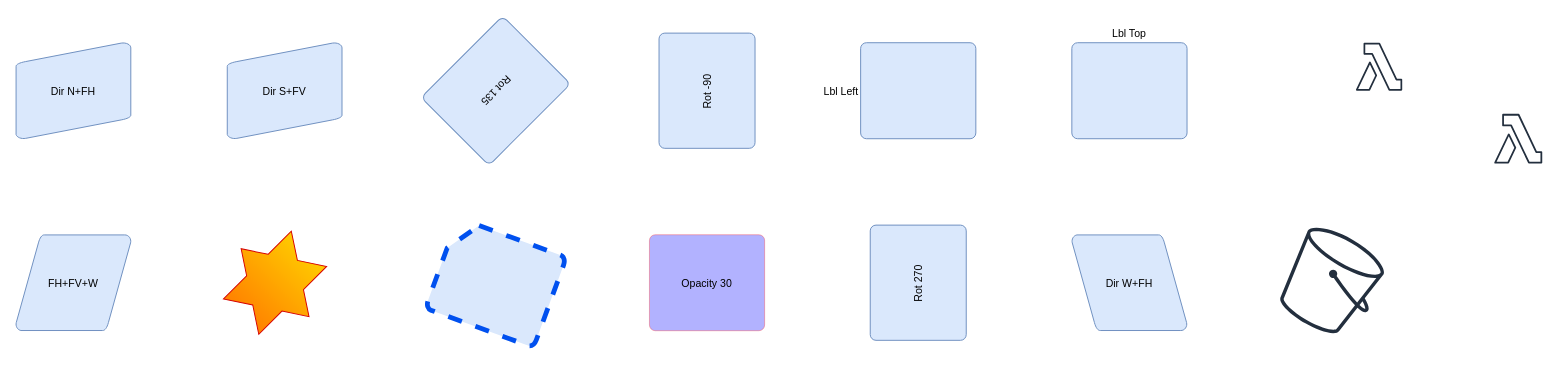
Some shapes in this 1560 by 367 pixel diagram are drawn without their labels. The centre of each missing label's shape, as x and y in pixels:
AWS S3 Rot: the point at 1330,282
Rot+Grad: the point at 274,282
Tall 50x200: the point at 1517,138
Thick+Dash: the point at 495,282
Wide 200x50: the point at 1378,66
